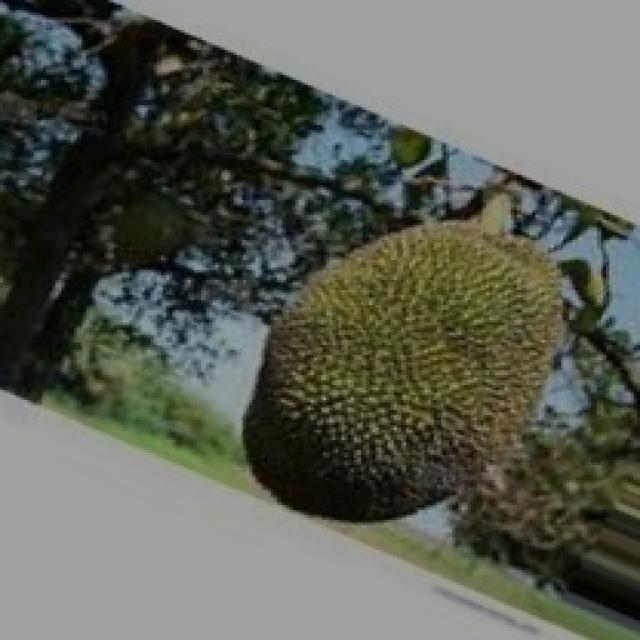Fruit: (215, 178, 612, 548)
